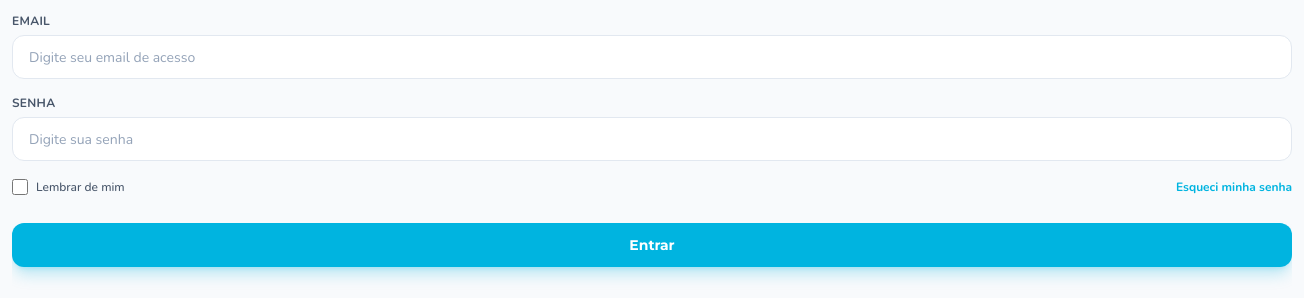
LoginForm › botão fica desabilitado durante o loading
Type "teste@vans.com" into the field labelled "Email".
click(652, 57); type("teste@vans.com")  # box top-left (12, 35), bottom-right (1292, 79)
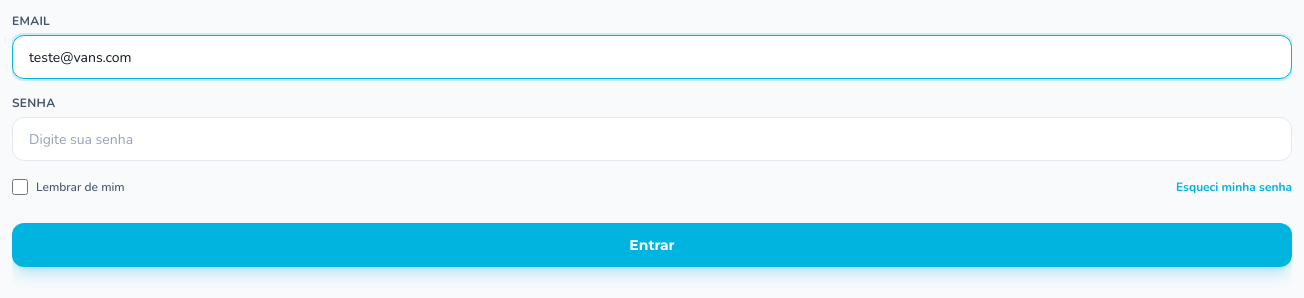
Type "senha123" into the password field labelled "Senha".
click(652, 139); type("senha123")  # box top-left (12, 117), bottom-right (1292, 161)
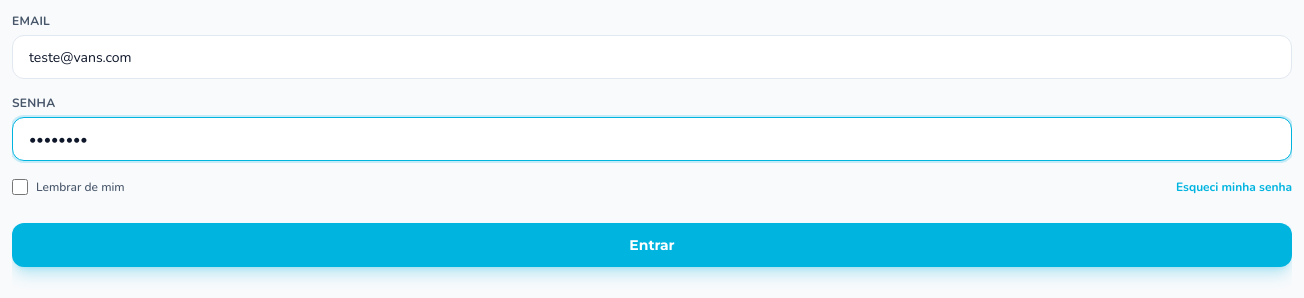
Click the button "Entrar".
click(652, 245)  # box top-left (12, 223), bottom-right (1292, 267)
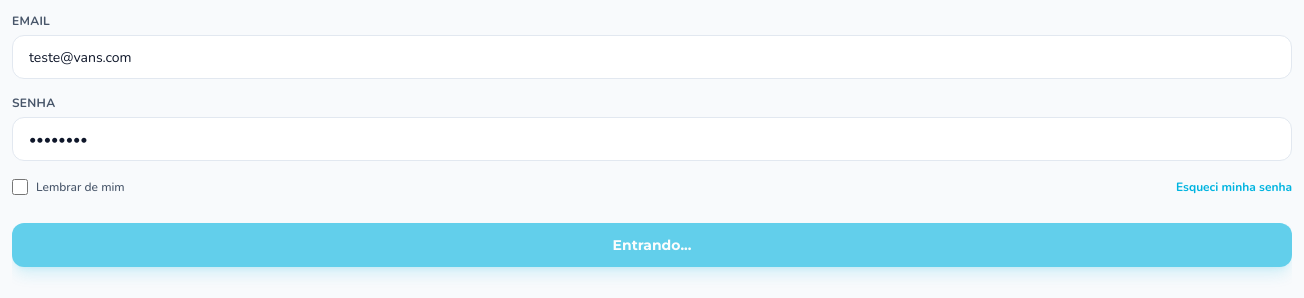
Result: the button "Entrando..." is disabled at top-left (12, 223), bottom-right (1292, 267)
